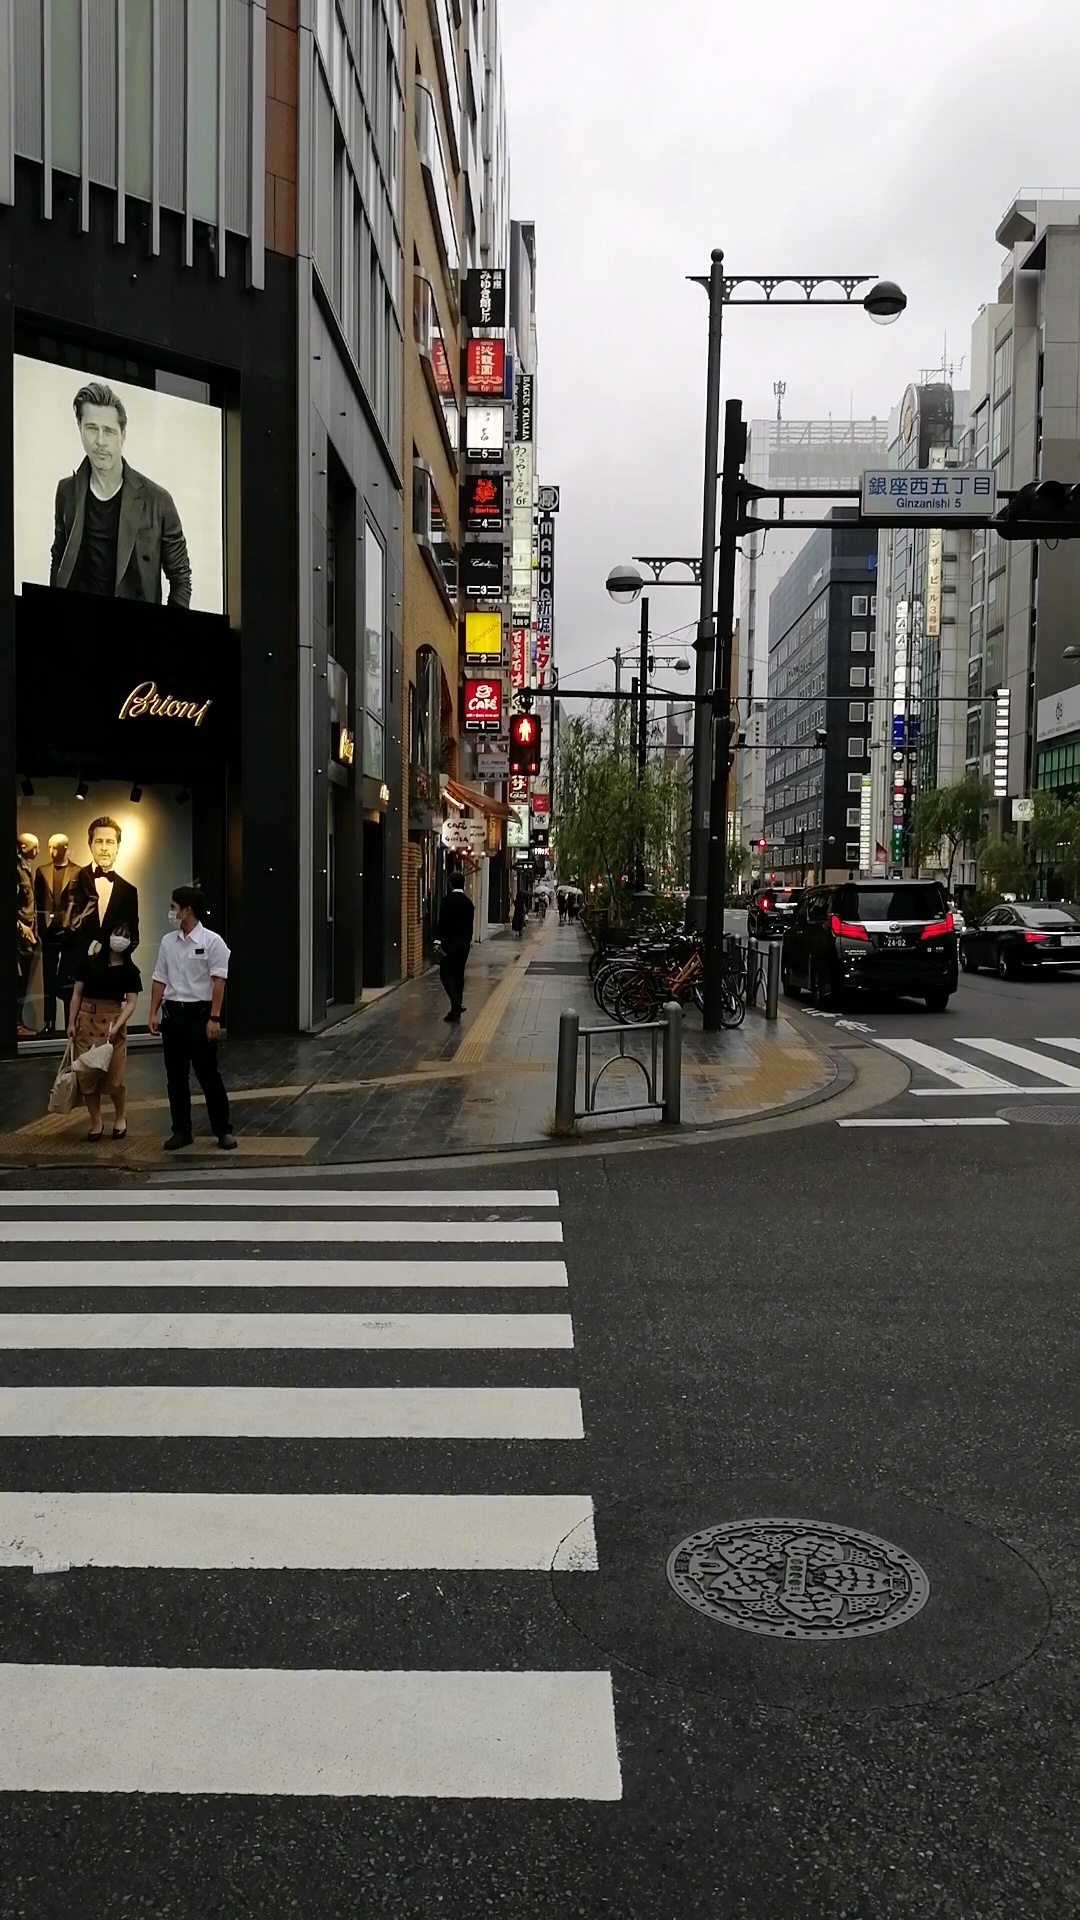red: (506, 713, 541, 775)
